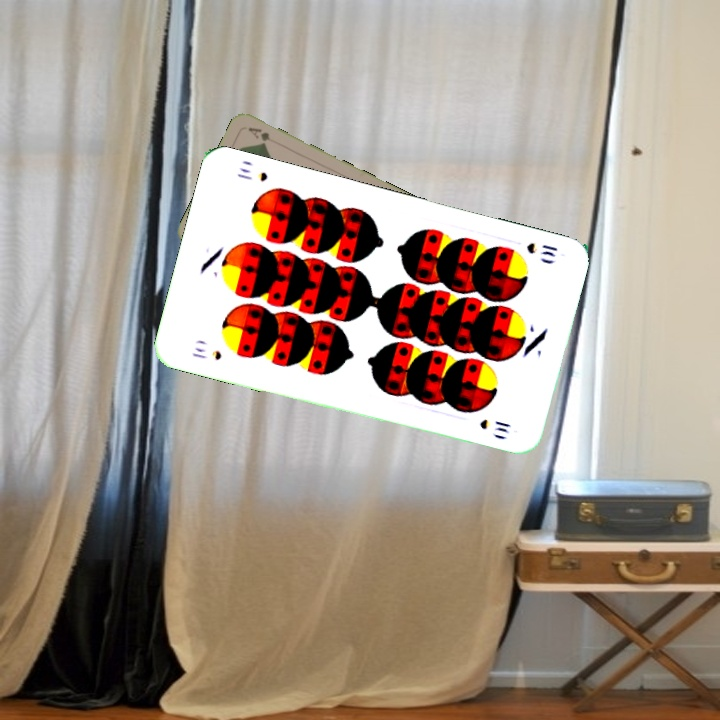S10: (522, 238, 561, 260), (188, 343, 225, 363)
